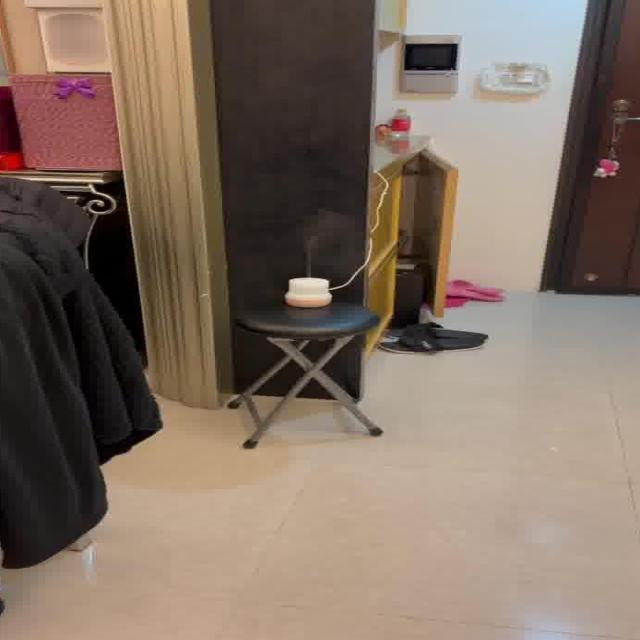fire: (295, 209, 352, 272)
